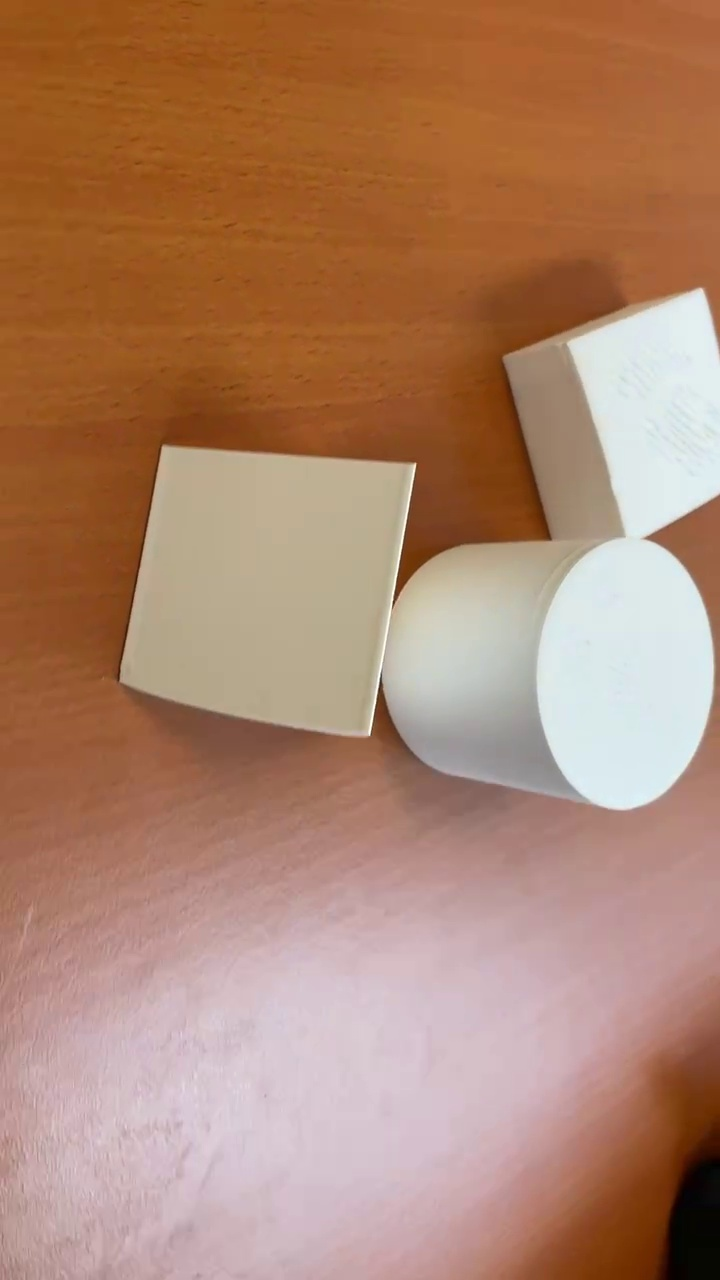Cube_short: (500, 283, 716, 544)
Cylinder: (375, 531, 713, 811)
Triangle: (117, 439, 423, 738)
